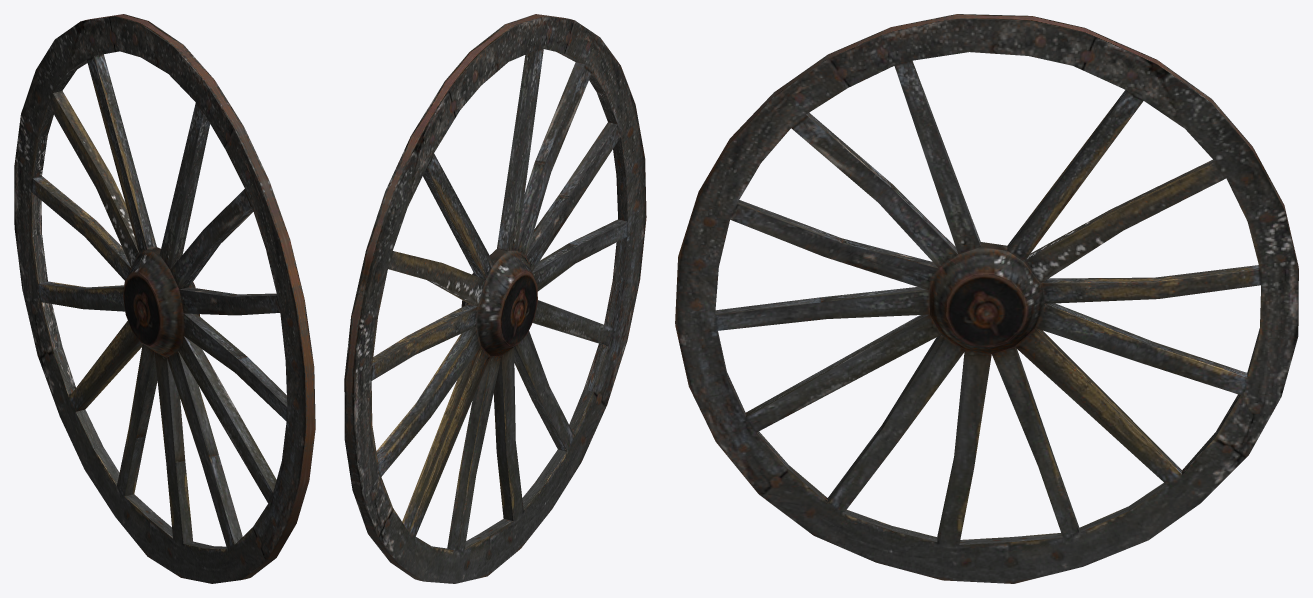
Rendered from Wheel_LOD02.fbx.
The picture shows the model from 3 angles, left to right: view 1: azimuth 30°, elevation 25°; view 2: azimuth 150°, elevation 25°; view 3: azimuth 270°, elevation 25°; orthographic projection. The views are drawn at different scales.
Parts seen in each view (by area): view 1: Mesh Object; view 2: Mesh Object; view 3: Mesh Object.
Part boxes in pixels (x1,y1,x2,y2): Mesh Object: [14, 14, 315, 583]; Mesh Object: [344, 14, 646, 583]; Mesh Object: [675, 14, 1298, 583].
Size of the model in its own units: 0.077 by 0.9921 by 0.9921.
